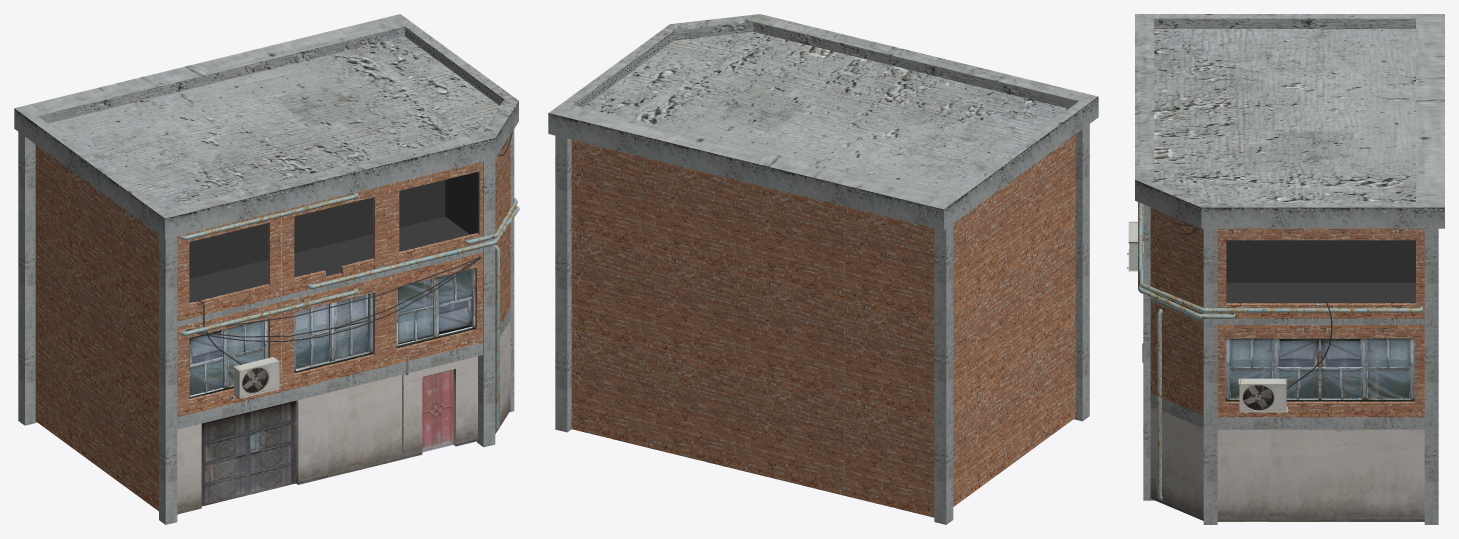
The model's file is building_game-ready.glb.
3 renders of one model, left to right at view 1: azimuth 30°, elevation 25°; view 2: azimuth 150°, elevation 25°; view 3: azimuth 270°, elevation 25°, orthographic. The views are drawn at different scales.
Parts seen in each view (by area): view 1: Plane072, Object001_black_0, Plane002, Plane099_walls_0, Plane027, Plane028, Plane026, Plane078, Plane077, Plane075, Plane076, Plane074 (+30 smaller); view 2: Plane072, Plane092, Plane093, Plane089, Plane090, Plane087, Plane086, Plane091, Plane088, Plane095, Plane096, Plane085 (+19 smaller); view 3: Plane072, Plane097_walls_0, Object002_black_0, Object003_walls_0, Plane042, Plane052, Plane022, Plane098_walls_0, Plane024, Box005, Line015, Plane047 (+16 smaller).
Part boxes in pixels (<box>): Plane072: <box>14,14,518,238</box>; Object001_black_0: <box>189,171,478,302</box>; Plane002: <box>177,393,327,514</box>; Plane099_walls_0: <box>328,356,477,477</box>; Plane027: <box>282,276,386,391</box>; Plane028: <box>386,253,482,365</box>; Plane026: <box>177,302,281,417</box>; Plane078: <box>59,341,112,476</box>; Plane077: <box>59,245,112,379</box>; Plane075: <box>112,380,158,510</box>; Plane076: <box>59,161,112,283</box>; Plane074: <box>112,284,158,414</box>; Plane072: <box>548,14,1098,230</box>; Plane092: <box>655,251,750,373</box>; Plane093: <box>655,350,750,472</box>; Plane089: <box>750,274,844,396</box>; Plane090: <box>750,373,844,495</box>; Plane087: <box>845,396,934,517</box>; Plane086: <box>845,297,934,418</box>; Plane091: <box>655,160,750,273</box>; Plane088: <box>750,183,844,297</box>; Plane095: <box>571,231,655,350</box>; Plane096: <box>571,330,655,449</box>; Plane085: <box>845,206,934,318</box>; Plane072: <box>1135,14,1444,228</box>; Plane097_walls_0: <box>1217,429,1424,521</box>; Object002_black_0: <box>1226,240,1415,303</box>; Object003_walls_0: <box>1225,338,1414,403</box>; Plane042: <box>1217,324,1424,417</box>; Plane052: <box>1217,228,1424,318</box>; Plane022: <box>1150,301,1203,415</box>; Plane098_walls_0: <box>1150,406,1203,520</box>; Plane024: <box>1150,207,1203,313</box>; Box005: <box>1238,378,1287,412</box>; Line015: <box>1139,269,1423,312</box>; Plane047: <box>1203,326,1217,425</box>.
Bounding box in the file's own units: 1289 × 966 × 873.
Materials: 3 (2 with a texture image).
